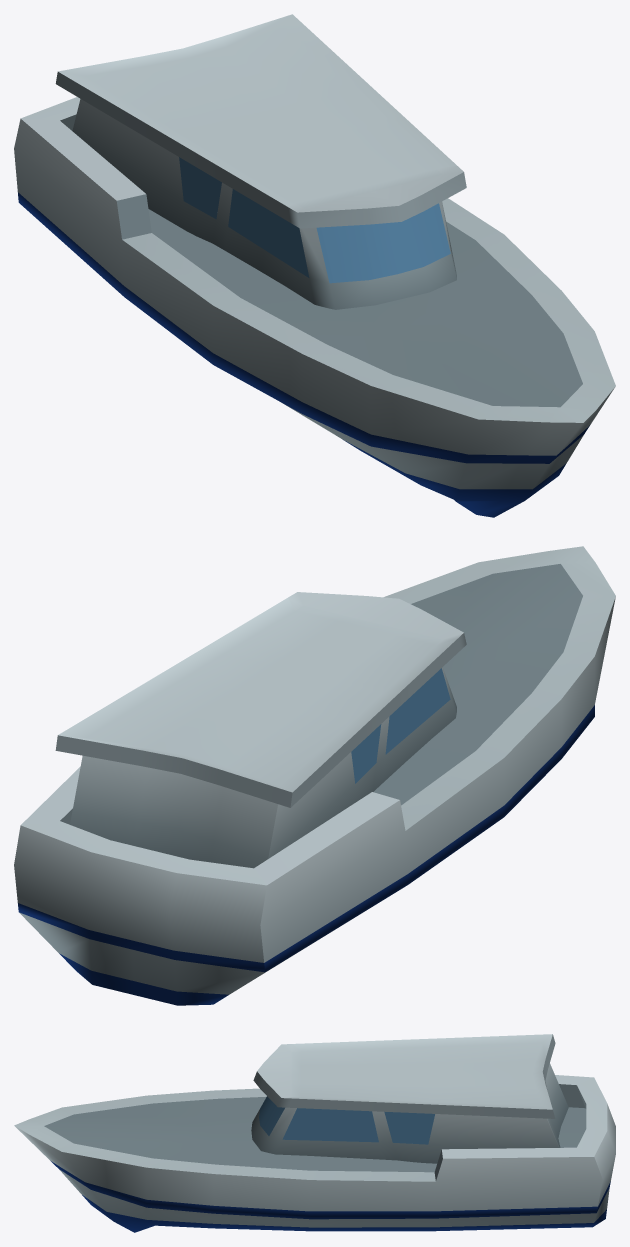
The model's file is vehicles-boats-motorboat_v1.glb.
3 renders of one model, top to bottom at view 1: azimuth 30°, elevation 25°; view 2: azimuth 150°, elevation 25°; view 3: azimuth 270°, elevation 25°, orthographic. The views are drawn at different scales.
Visible parts, largest first — view 1: Motorboat.001, Motorboat; view 2: Motorboat.001, Motorboat; view 3: Motorboat.001, Motorboat.
Part boxes in pixels (<box>): Motorboat.001: <box>14,14,615,517</box>; Motorboat: <box>179,157,450,283</box>; Motorboat.001: <box>14,546,615,1005</box>; Motorboat: <box>351,668,450,783</box>; Motorboat.001: <box>14,1034,615,1232</box>; Motorboat: <box>259,1096,434,1144</box>.
Size of the model in its own units: 4.42 by 3.52 by 12.
